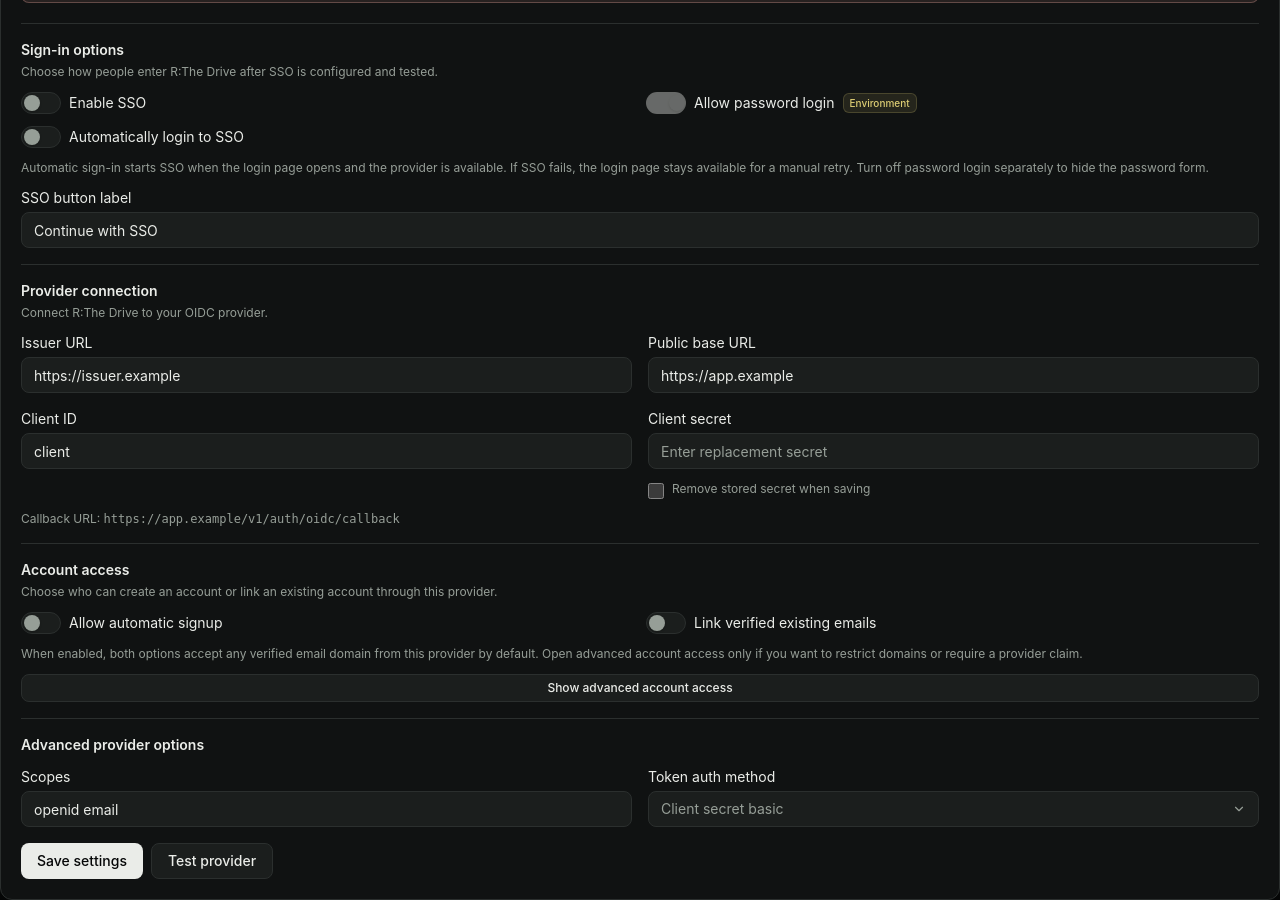
Scenario: AuthenticationSection › shows provider validation failure feedback
(page scrolled)
Click the button "Test provider". click: point(212, 861)
box: [151,843,273,879]
(page scrolled)
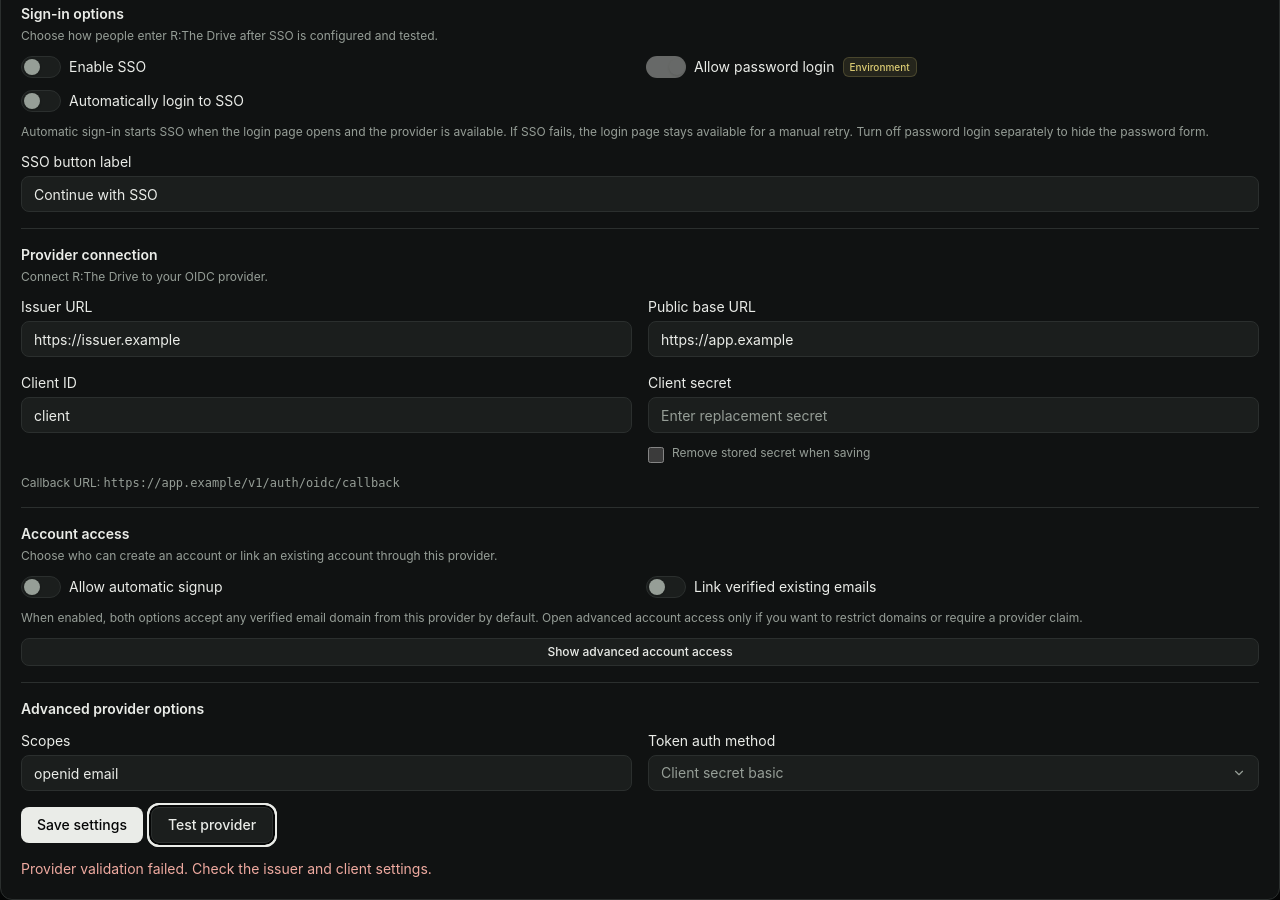
Now the message shows "Provider validation failed", box [21,860,432,877]
